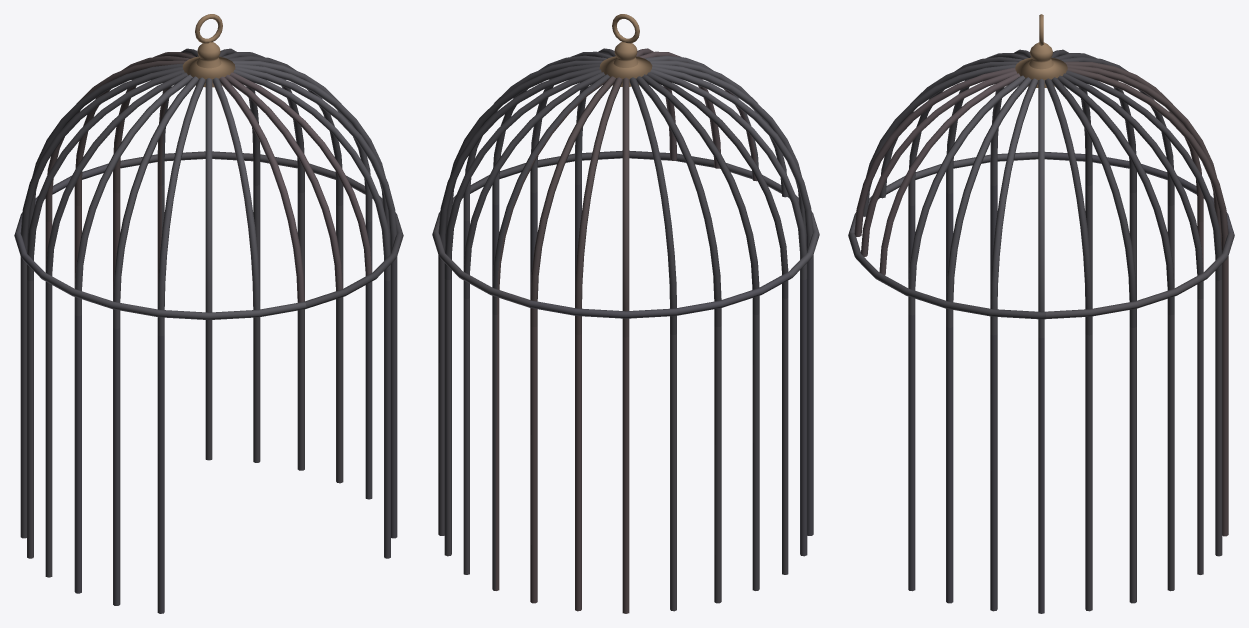
File: birdcage_nodoor.gltf
3 renders of one model, left to right at view 1: azimuth 30°, elevation 25°; view 2: azimuth 150°, elevation 25°; view 3: azimuth 270°, elevation 25°, orthographic.
Visible parts, largest first — view 1: pCube4; view 2: pCube4; view 3: pCube4.
Part boxes in pixels (box(x1,y1,x2,y2)): pCube4: box(14, 14, 403, 613); pCube4: box(432, 14, 819, 613); pCube4: box(848, 14, 1234, 613).
Bounding box in the file's own units: 108 × 160 × 108.
1 material, 1 textured.
